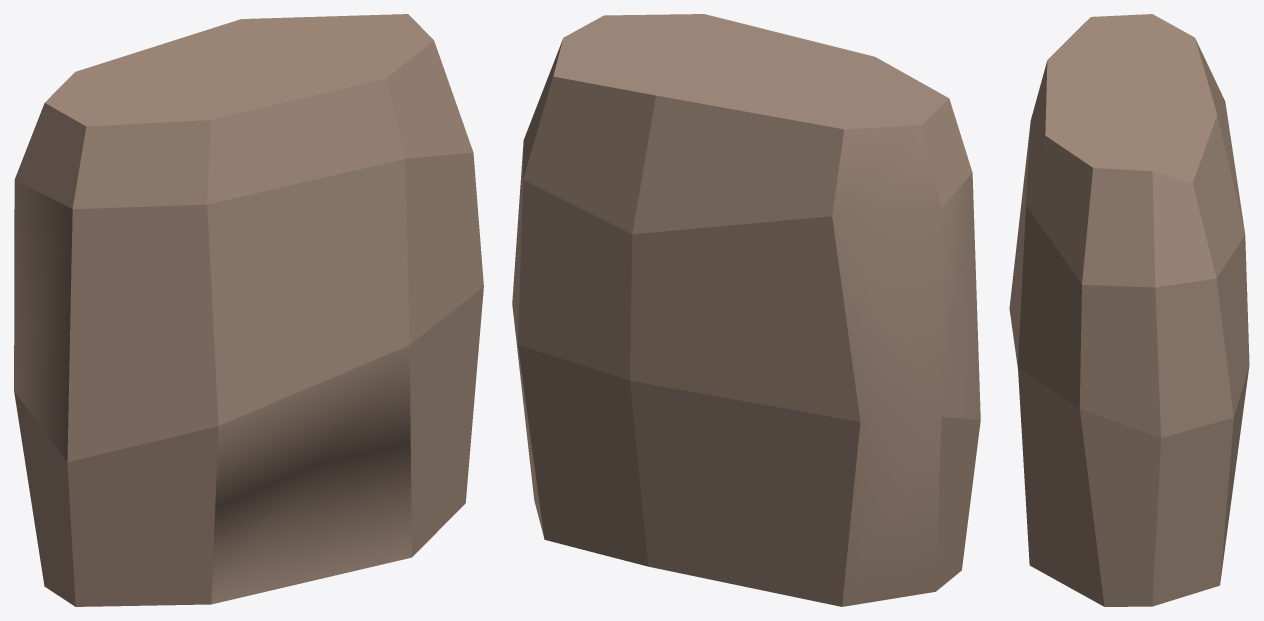
The model's file is Stackable_Rock_2_1_2_Colored.fbx.
3 renders of one model, left to right at view 1: azimuth 30°, elevation 25°; view 2: azimuth 150°, elevation 25°; view 3: azimuth 270°, elevation 25°, orthographic. The views are drawn at different scales.
Parts seen in each view (by area): view 1: Stockable_Rock_2_1_2; view 2: Stockable_Rock_2_1_2; view 3: Stockable_Rock_2_1_2.
Part boxes in pixels (bbox=[...]): Stockable_Rock_2_1_2: bbox=[14, 14, 483, 606]; Stockable_Rock_2_1_2: bbox=[512, 14, 980, 606]; Stockable_Rock_2_1_2: bbox=[1009, 14, 1249, 606].
Bounding box in the file's own units: 191 × 199 × 103.
